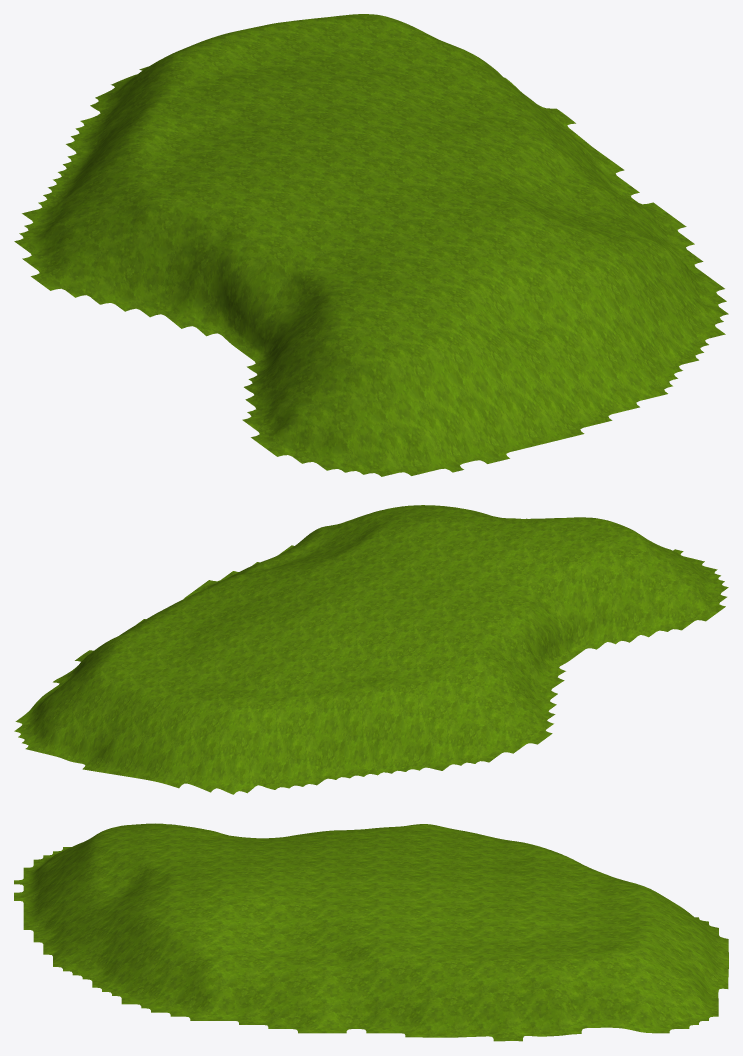
Rendered from island 1.FBX.
3 views of the same model, one above another, from view 1: azimuth 30°, elevation 25°; view 2: azimuth 150°, elevation 25°; view 3: azimuth 270°, elevation 25° (orthographic). The views are drawn at different scales.
Visible parts, largest first — view 1: Plane001; view 2: Plane001; view 3: Plane001.
Boxes of the visible parts, left/top/right/bottom form: Plane001: left=14, top=14, right=728, bottom=476; Plane001: left=14, top=505, right=728, bottom=794; Plane001: left=14, top=823, right=728, bottom=1041.
Size of the model in its own units: 965 by 157 by 1438.
Materials: 1 (1 with a texture image).
